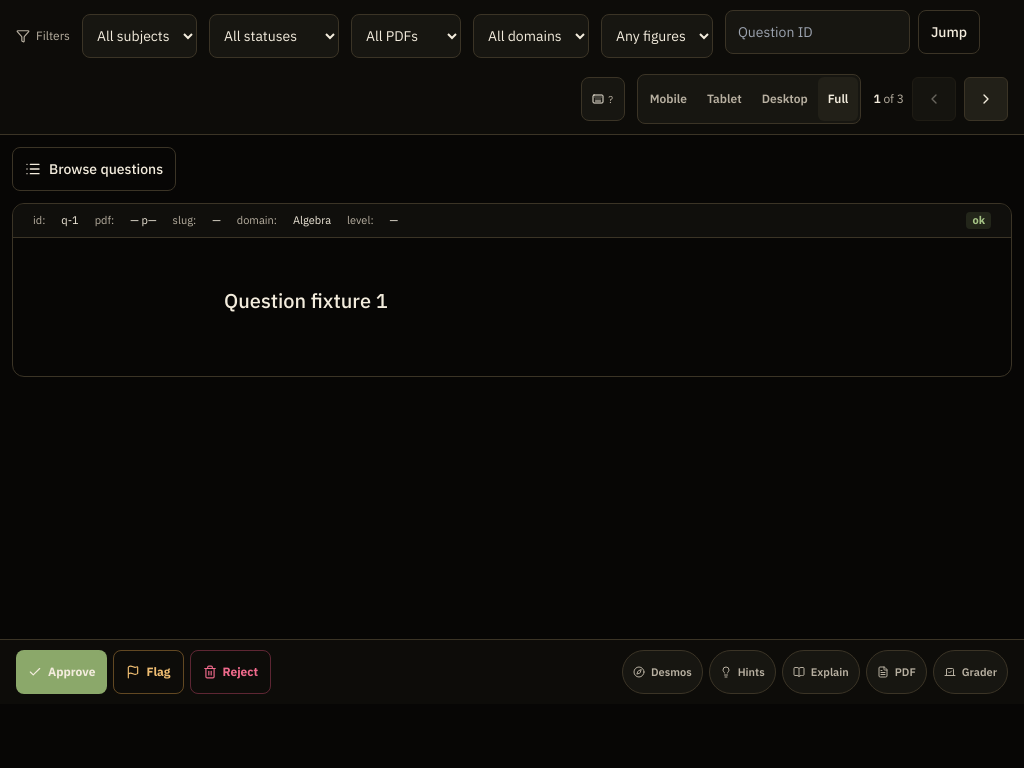
Test: full preview selected-question navigation › focuses the selected question without phone scrolling on desktop
The image size is (1024, 768).
Expected: the heading "Question fixture 1" is shown, [224, 286, 388, 314]
Type "q-2" into the field named "Jump to question ID" at (817, 32), box [725, 10, 910, 54]
Then press Enter
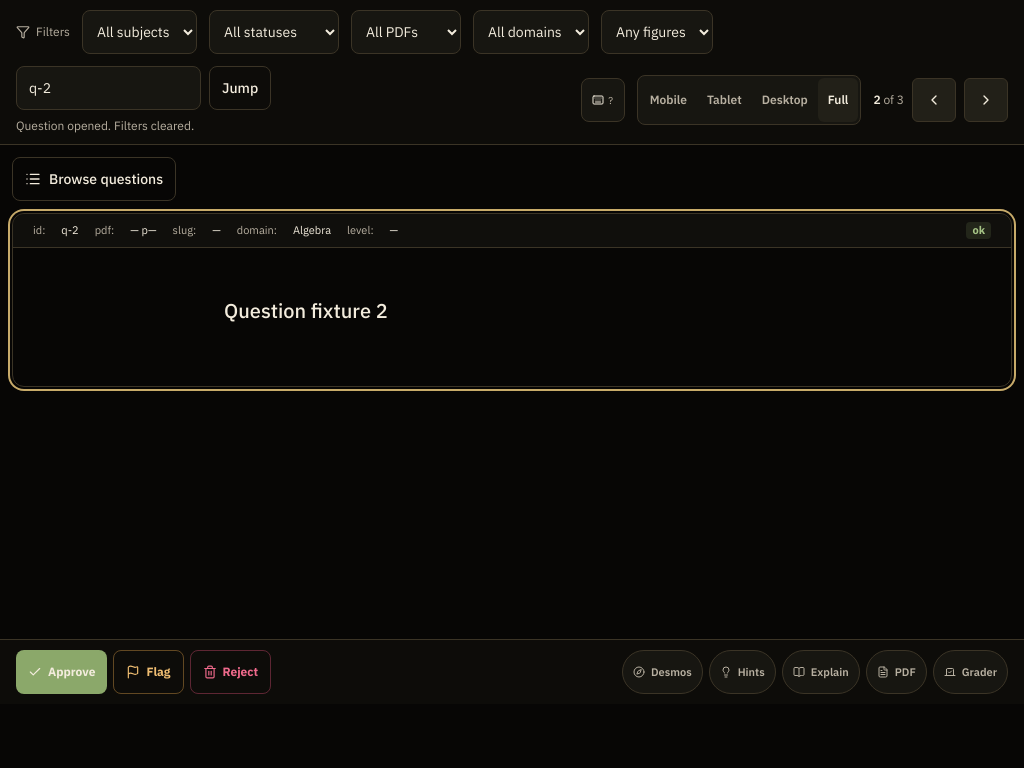
Now the heading "Question fixture 2" is shown, box [224, 296, 388, 324]
